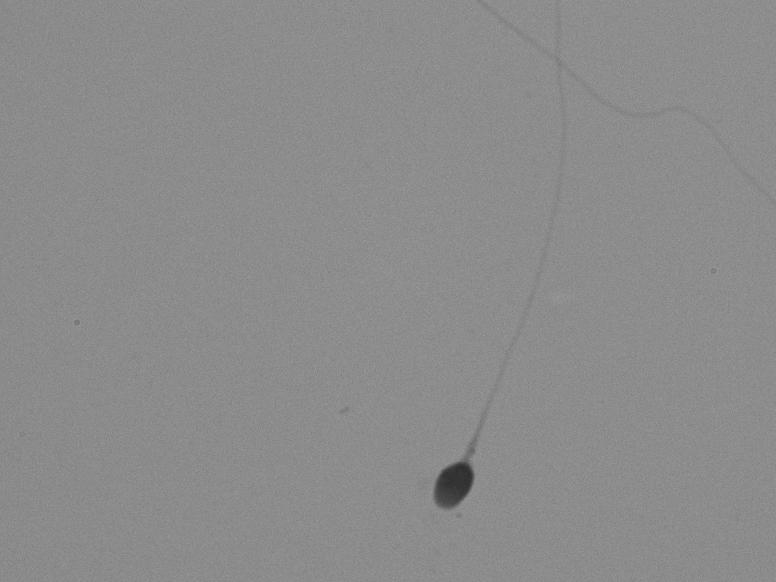Normal: (382, 26, 619, 542)
